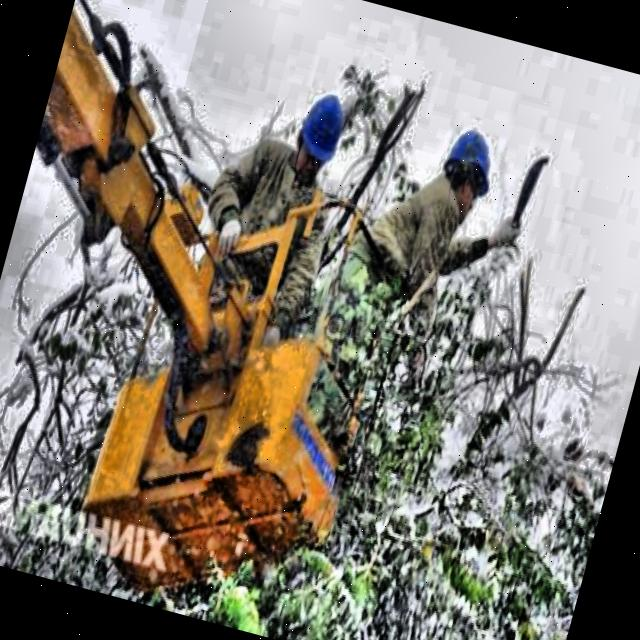helmet: (429, 116, 504, 227), (283, 78, 356, 192)
